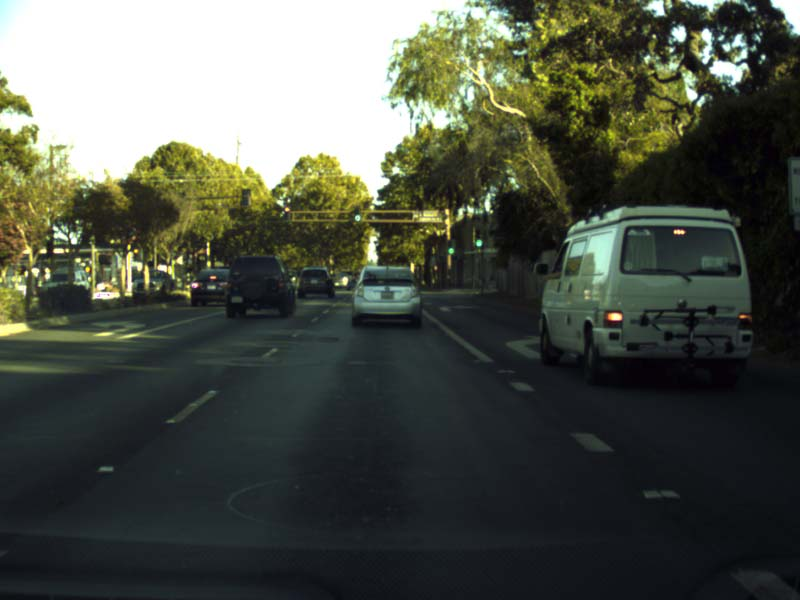Green: (474, 230, 482, 247), (446, 239, 454, 254), (354, 208, 360, 222)
Red: (283, 206, 289, 220)
